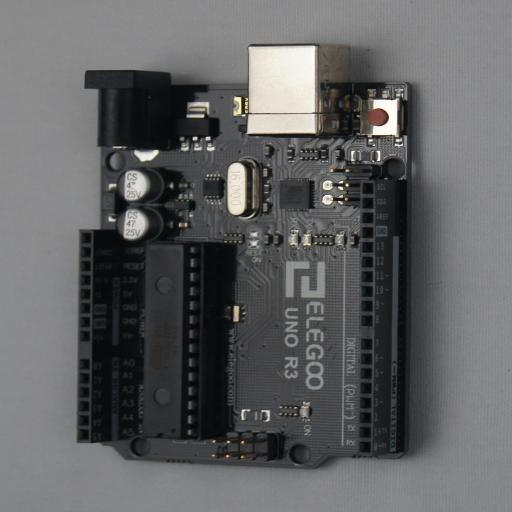Arduino Uno -Black-: (76, 43, 440, 470)
